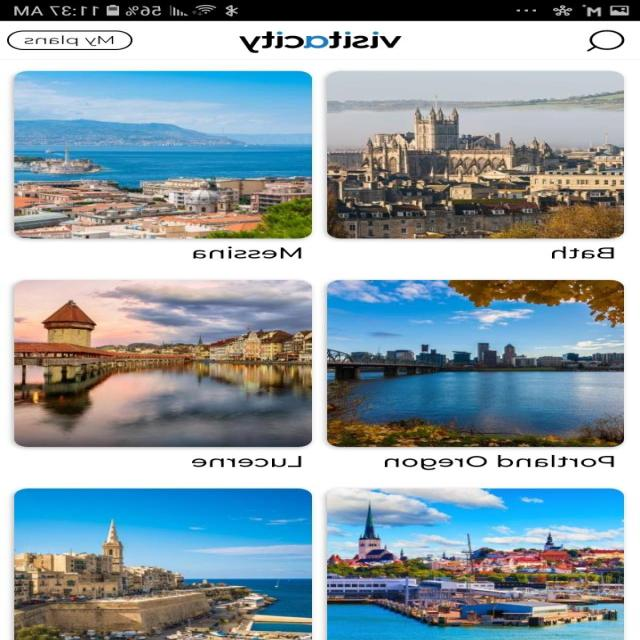Icon: (587, 30, 625, 52)
Image: (15, 70, 313, 238), (327, 280, 625, 447), (15, 279, 313, 446), (327, 71, 624, 238), (15, 488, 313, 640), (327, 488, 625, 640), (239, 31, 403, 53)
Text: (385, 455, 615, 470), (192, 455, 302, 467), (194, 246, 302, 258), (551, 246, 615, 258)
TextButton: (7, 30, 133, 50)
